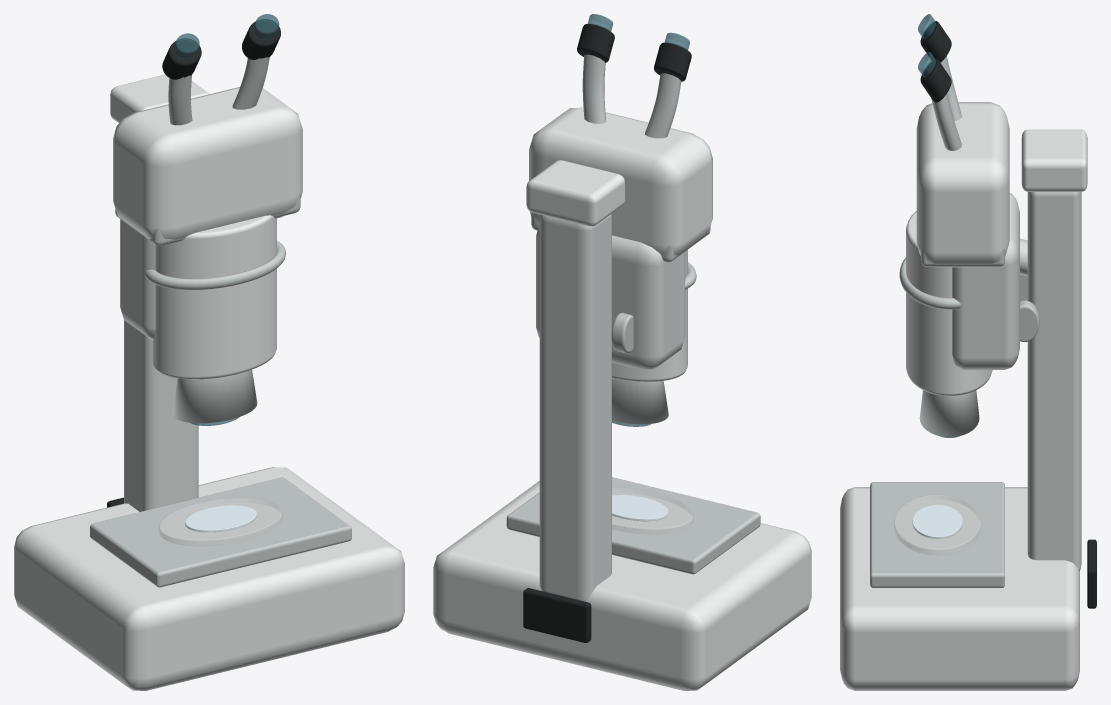
The model's file is stereo-microscope.glb.
The picture shows the model from 3 angles, left to right: view 1: azimuth 30°, elevation 25°; view 2: azimuth 150°, elevation 25°; view 3: azimuth 270°, elevation 25°; orthographic projection. The views are drawn at different scales.
Visible parts, largest first — view 1: Runtime batch - Cool white instrument polymer, Runtime batch - Light instrument gray powder coat, Runtime batch - Light bead-blasted aluminum, Runtime batch - Low iron safety glass, Runtime batch - Casework seam shadow, Runtime batch - Neutral LED work light, Runtime batch - Coated microscope optic; view 2: Runtime batch - Cool white instrument polymer, Runtime batch - Light bead-blasted aluminum, Runtime batch - Light instrument gray powder coat, Runtime batch - Casework seam shadow, Runtime batch - Low iron safety glass, Runtime batch - Neutral LED work light, Runtime batch - Coated microscope optic; view 3: Runtime batch - Cool white instrument polymer, Runtime batch - Light bead-blasted aluminum, Runtime batch - Light instrument gray powder coat, Runtime batch - Low iron safety glass, Runtime batch - Casework seam shadow, Runtime batch - Neutral LED work light, Runtime batch - Coated microscope optic.
Part boxes in pixels (x1,y1,x2,y2): Runtime batch - Cool white instrument polymer: (14, 74, 404, 690); Runtime batch - Light instrument gray powder coat: (90, 57, 351, 587); Runtime batch - Light bead-blasted aluminum: (120, 219, 198, 511); Runtime batch - Low iron safety glass: (158, 497, 283, 545); Runtime batch - Casework seam shadow: (107, 19, 280, 507); Runtime batch - Neutral LED work light: (185, 505, 256, 532); Runtime batch - Coated microscope optic: (173, 14, 279, 425); Runtime batch - Cool white instrument polymer: (433, 107, 811, 690); Runtime batch - Light bead-blasted aluminum: (536, 214, 685, 601); Runtime batch - Light instrument gray powder coat: (506, 54, 760, 574); Runtime batch - Casework seam shadow: (523, 24, 691, 642); Runtime batch - Low iron safety glass: (612, 487, 693, 534); Runtime batch - Neutral LED work light: (612, 495, 668, 521); Runtime batch - Coated microscope optic: (587, 14, 689, 426); Runtime batch - Cool white instrument polymer: (840, 102, 1087, 690); Runtime batch - Light bead-blasted aluminum: (952, 192, 1081, 571); Runtime batch - Light instrument gray powder coat: (870, 56, 1039, 587); Runtime batch - Low iron safety glass: (894, 494, 981, 554); Runtime batch - Casework seam shadow: (920, 21, 1096, 608); Runtime batch - Neutral LED work light: (912, 505, 962, 538); Runtime batch - Coated microscope optic: (918, 14, 959, 437).
Bounding box in the file's own units: 0.194 × 0.403 × 0.1566.
